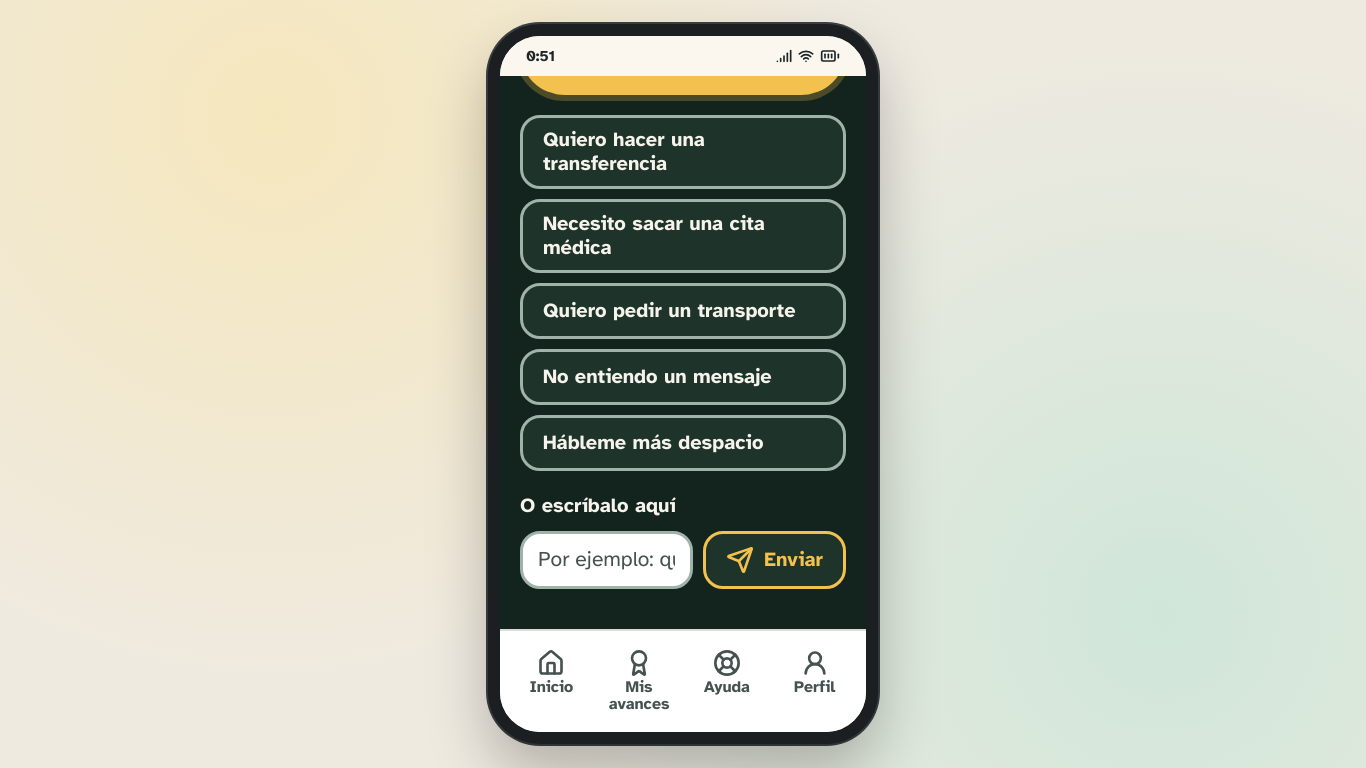
Test: pantalla 5: copiloto sin micrófono › confianza baja: "No te entendí bien" con botones
(page scrolled)
Step 1. Type "el clima de mañana" into the field labelled "O escríbalo aquí" → (607, 560), box [520,531,693,589]
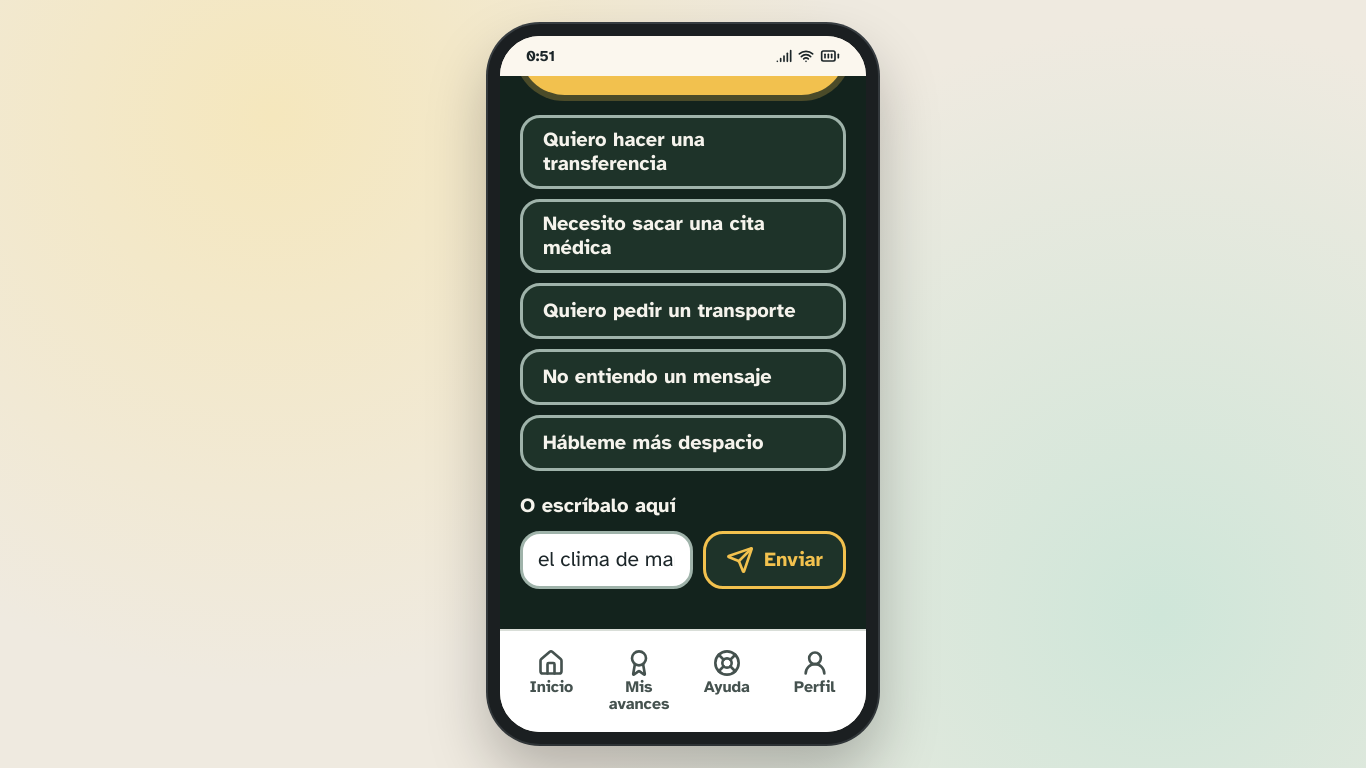
Step 2. Click the button "Enviar" → (775, 560), box [703,531,846,589]
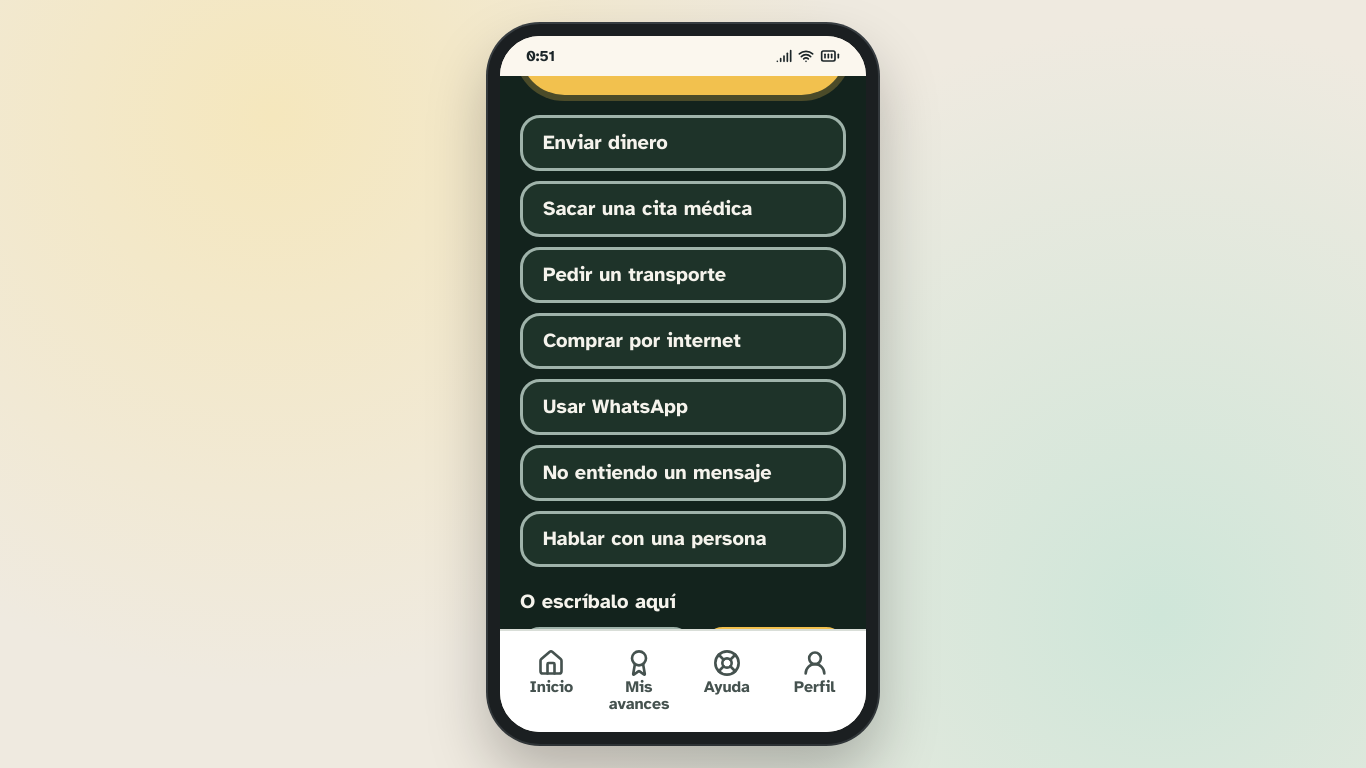
Now the button "Enviar dinero" is shown, box [520,115,846,171]
Now the button "Hablar con una persona" is shown, box [520,511,846,567]
